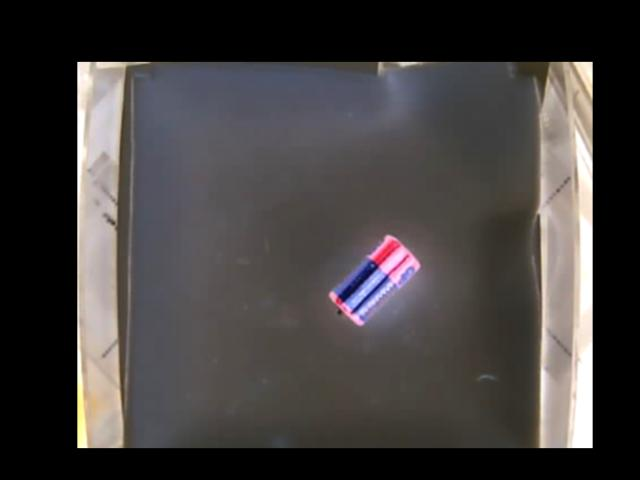Battery: (327, 233, 418, 322)
